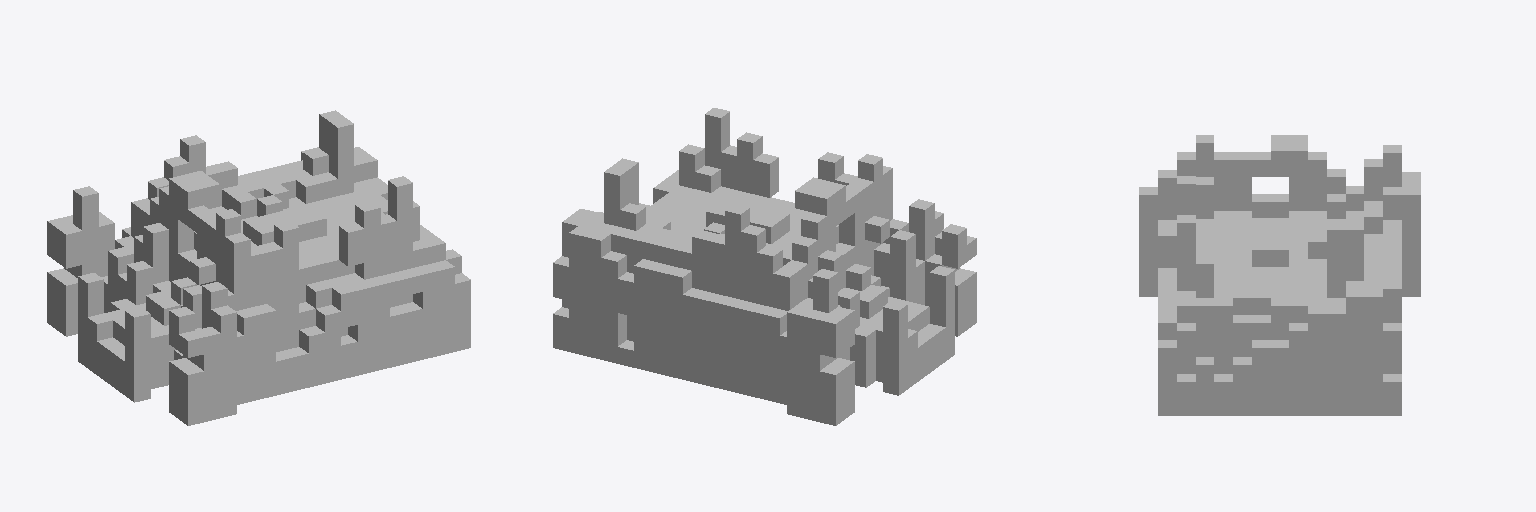
File: ice_box_1.obj
The picture shows the model from 3 angles: view 1: azimuth 30°, elevation 25°; view 2: azimuth 150°, elevation 25°; view 3: azimuth 270°, elevation 25°; orthographic projection.
Visible parts, largest first — view 1: ice_box_1; view 2: ice_box_1; view 3: ice_box_1.
Boxes of the visible parts, box(x1,y1,x2,y2) form: ice_box_1: box(47, 110, 470, 425); ice_box_1: box(553, 108, 976, 425); ice_box_1: box(1139, 135, 1420, 415).
Bounding box in the file's own units: 19 × 10 × 15.